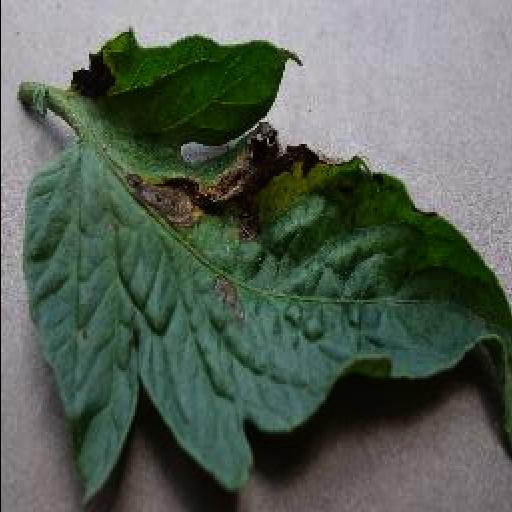disease_tomato: (22, 32, 512, 510)
